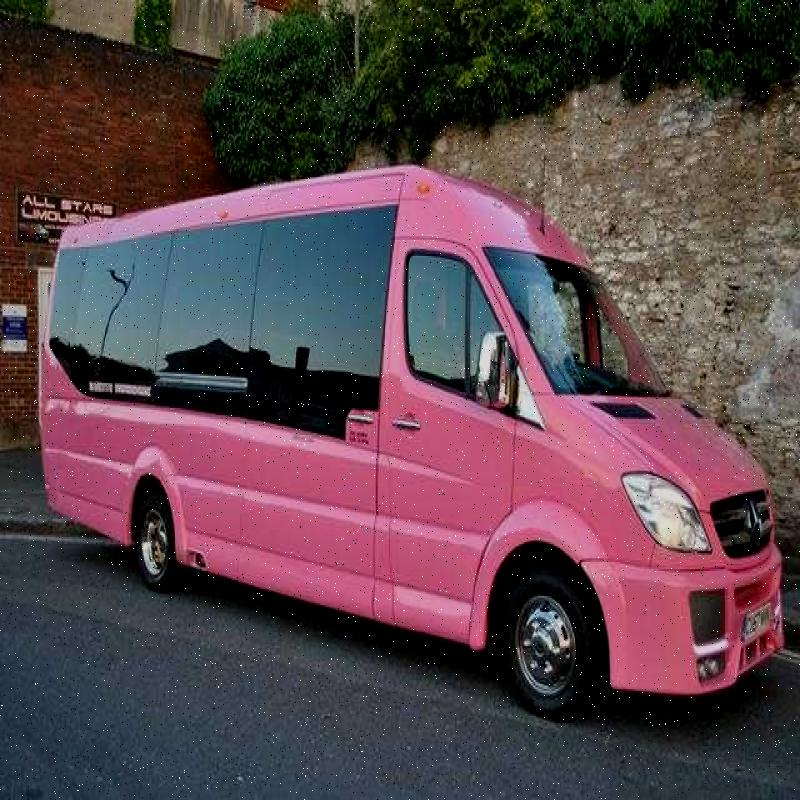bus: (37, 170, 782, 719)
